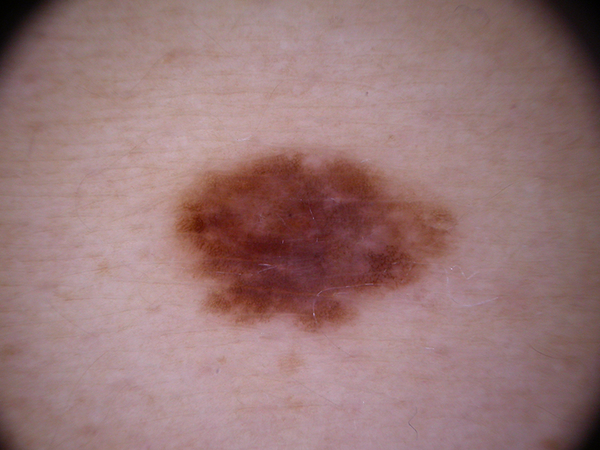Detected Lesion: (172, 153, 460, 335)
